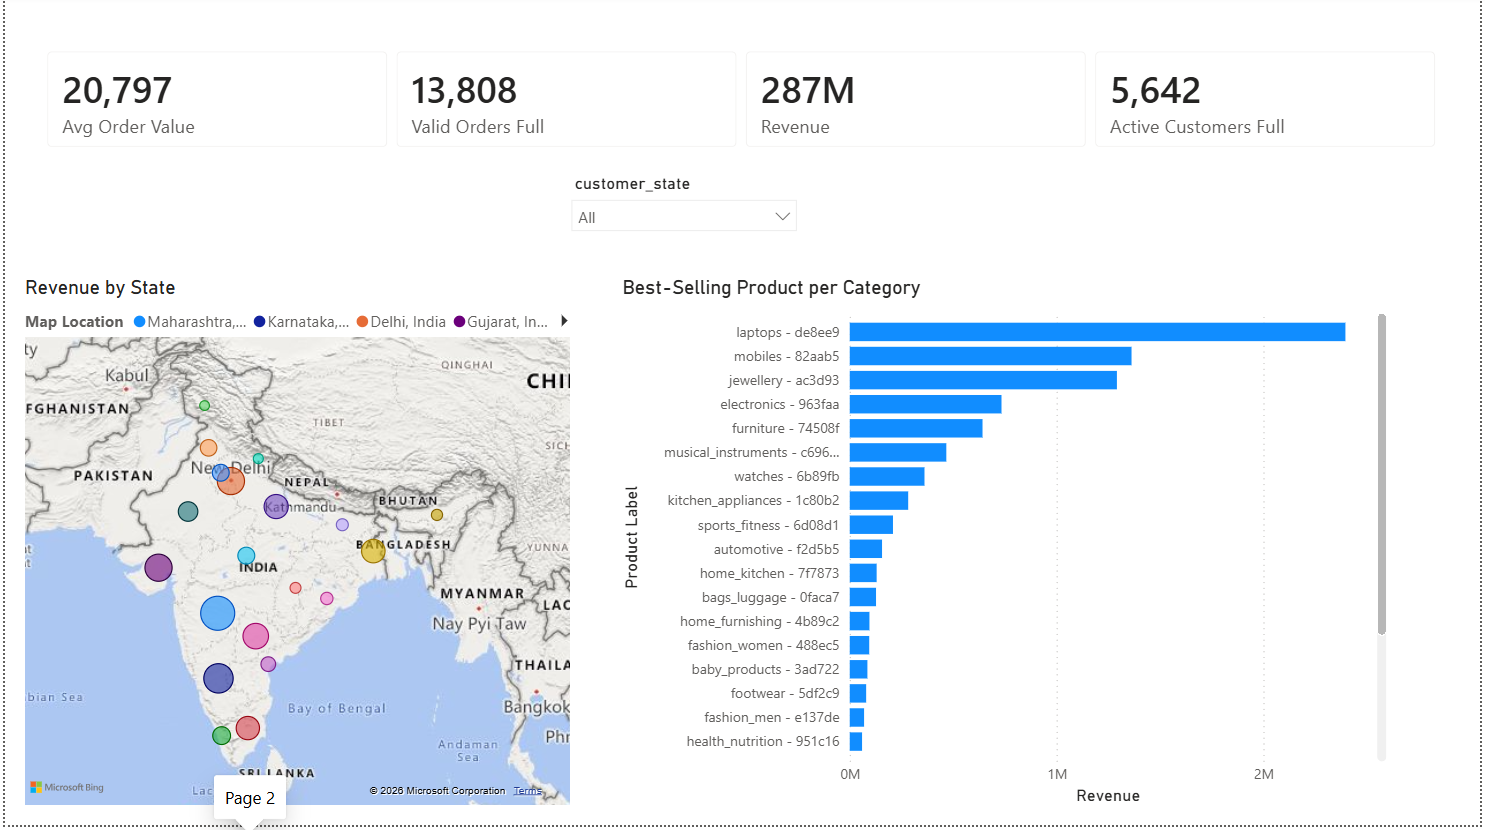

The dashboard page shown, as its layout file describes it:
{"tool":"powerbi","page":{"name":"Page 2","canvas":[1280,720],"ordinal":1},"visuals":[{"type":"map","title":"Revenue by State","fields":{"Size":["orders.Revenue"],"Category":["customers.Map Location"],"Series":["customers.Map Location"]},"box":[11.8,243.4,483.5,463.2],"z":0},{"type":"clusteredBarChart","title":"Best-Selling Product per Category","fields":{"Category":["products.Product Label"],"Y":["orders.Revenue"]},"box":[530.8,243.4,672.8,463.2],"z":1000},{"type":"cardVisual","fields":{"Data":["customers.Avg Order Value","customers.Valid Orders Full","orders.Revenue","customers.Active Customers Full"]},"box":[19.6,31.9,1238.7,117.6],"z":2000},{"type":"slicer","fields":{"Values":["customers.customer_state"]},"box":[481.5,149.5,215.6,71.1],"z":3000}]}

Visuals, with their boxes in screenshot pixels (x1, y1, x2, y2), scaled from the page's 1280x720 canvas onto the 1485x830 screenshot:
"Revenue by State" map: <bbox>14, 281, 575, 815</bbox>
"Best-Selling Product per Category" clusteredBarChart: <bbox>616, 281, 1396, 815</bbox>
cardVisual - customers.Avg Order Value x customers.Valid Orders Full: <bbox>23, 37, 1460, 172</bbox>
slicer - customers.customer_state: <bbox>559, 172, 809, 254</bbox>
